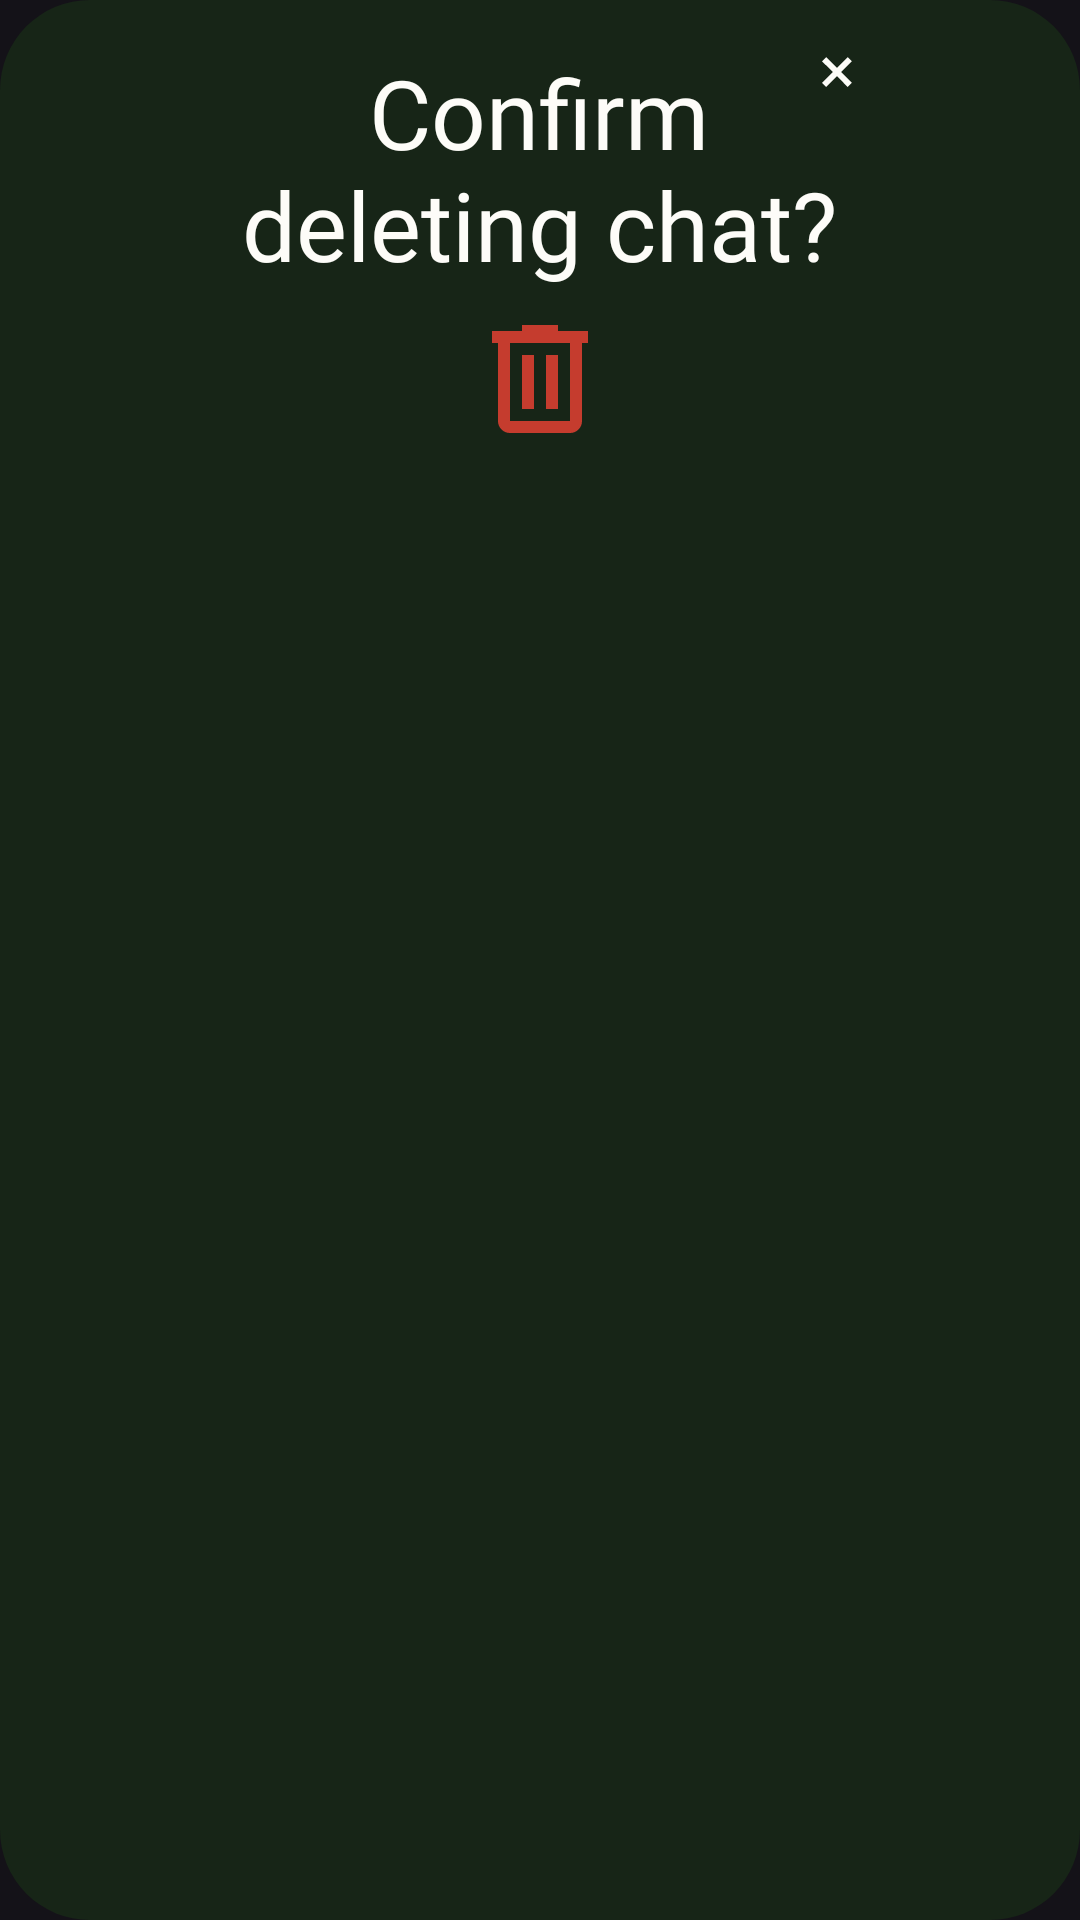

Where icons sit on this 1080*1920 app screen, as (x1, y1, x2, y2):
Close: (822, 57, 852, 87)
Delete: (492, 325, 588, 433)
